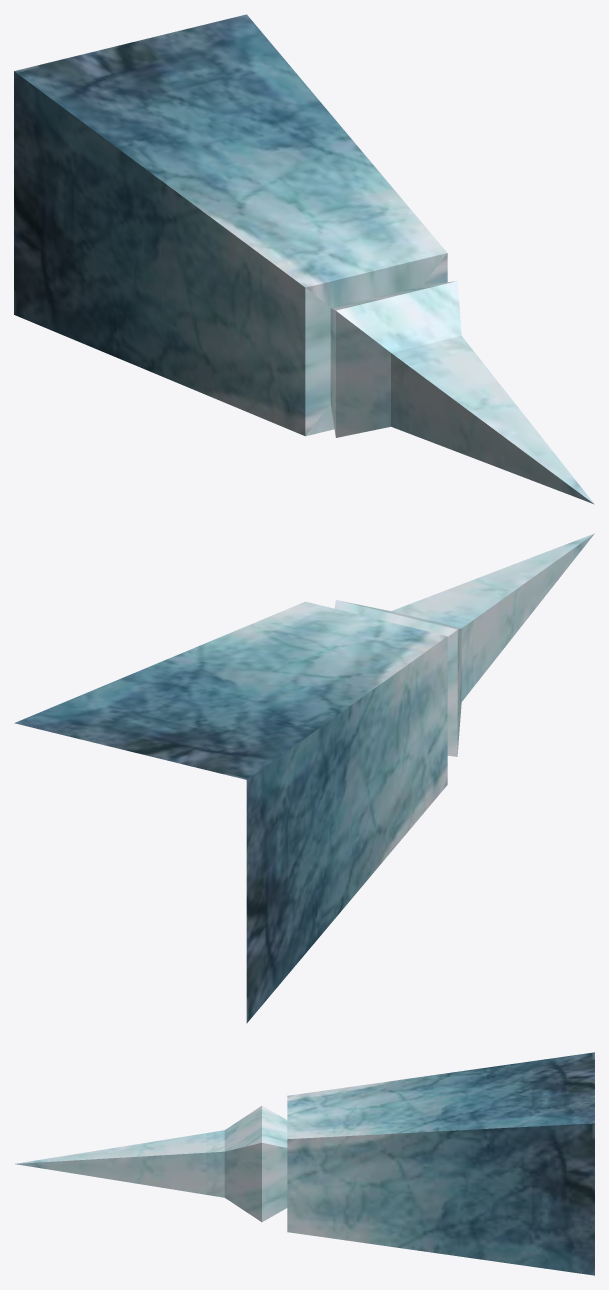
3 renders of one model, top to bottom at view 1: azimuth 30°, elevation 25°; view 2: azimuth 150°, elevation 25°; view 3: azimuth 270°, elevation 25°, orthographic. The views are drawn at different scales.
Visible parts, largest first — view 1: model_Object49; view 2: model_Object49; view 3: model_Object49.
Boxes of the visible parts, x1,y1,x2,y2 form: model_Object49: (14,14,594,504); model_Object49: (14,533,594,1023); model_Object49: (15,1052,594,1275).
Size of the model in its own units: 0.6279 by 0.6279 by 2.17.
Materials: 1 (1 with a texture image).
